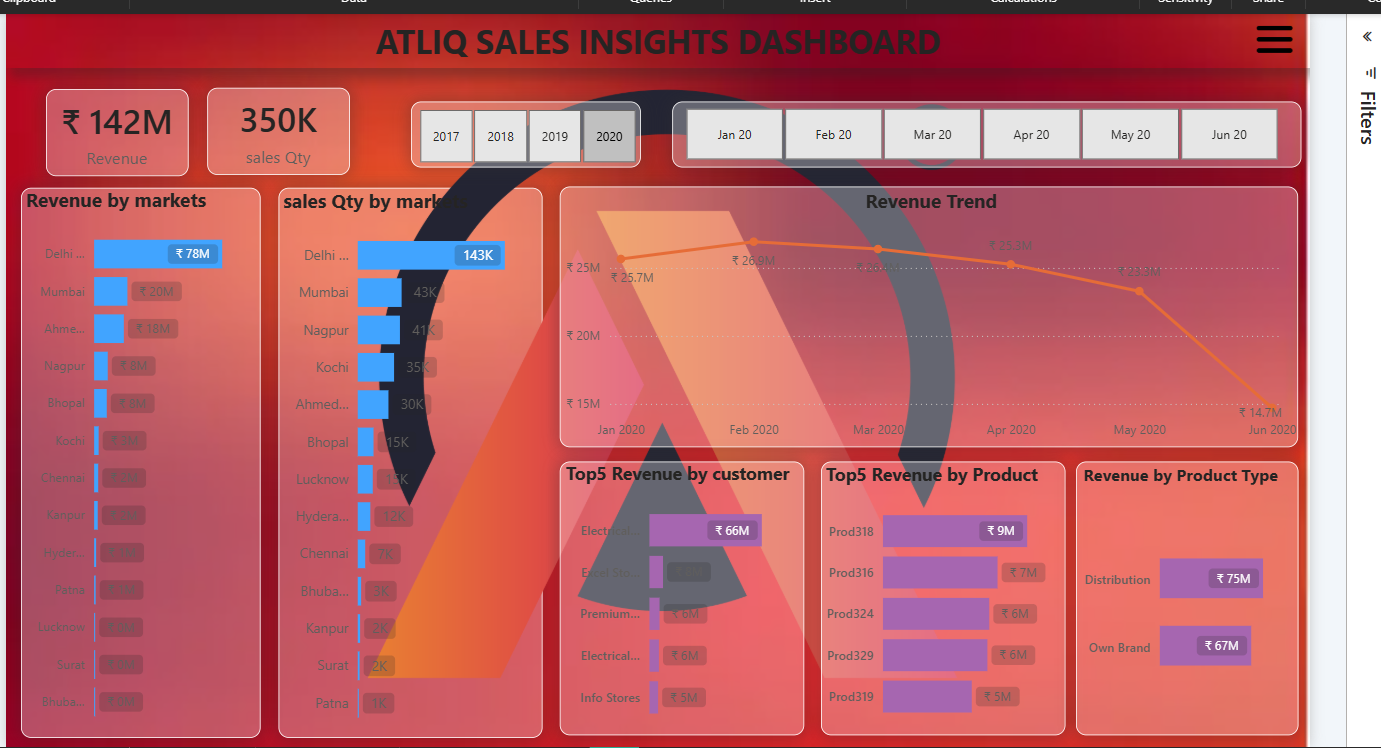

What the dashboard file says about the page in this screenshot:
{"tool":"powerbi","page":{"name":"Key Insight","canvas":[1280,720],"ordinal":0},"visuals":[{"type":"textbox","box":[0,0,1280.5,53],"z":0},{"type":"image","box":[1222,2.9,46.8,45.4],"z":1000},{"type":"shape","box":[197.8,72.4,139.9,85.6],"z":6000},{"type":"shape","box":[39.8,73.6,139.9,85.6],"z":7000},{"type":"shape","box":[267.7,170.1,259.3,540.3],"z":8000},{"type":"shape","box":[14.5,170.1,235.2,540.3],"z":9000},{"type":"card","fields":{"Values":["Base Measures 2.Revenue"]},"box":[39.8,73.6,139.9,84.4],"z":10000},{"type":"card","fields":{"Values":["Base Measures 2.sales Qty"]},"box":[197.8,71.2,139.9,86.8],"z":11000},{"type":"image","box":[292,55.2,723.9,608.6],"z":13000},{"type":"barChart","title":"Revenue by markets","fields":{"Category":["sales markets.markets_name"],"Y":["Base Measures 2.Revenue"]},"box":[14.5,168.8,236.4,540.3],"z":14000},{"type":"barChart","title":"sales Qty by markets","fields":{"Category":["sales markets.markets_name"],"Y":["Base Measures 2.sales Qty"]},"box":[267.7,170.1,259.3,540.3],"z":15000},{"type":"shape","box":[653.7,85.6,617.5,65.1],"z":16000},{"type":"shape","box":[398,85.6,225.5,65.1],"z":17000},{"type":"slicer","fields":{"Values":["sales date.year"]},"box":[379.9,86.8,261.7,65.1],"z":18000},{"type":"slicer","fields":{"Values":["sales date.cy_date"]},"box":[641.6,85.6,630.8,63.9],"z":19000},{"type":"shape","box":[543.9,168.8,724.8,255.7],"z":20000},{"type":"shape","box":[543.9,439,240,268.9],"z":21000},{"type":"shape","box":[799.6,439,240,268.9],"z":22000},{"type":"shape","box":[1050.5,439,218.3,268.9],"z":23000},{"type":"lineChart","title":"Revenue Trend","fields":{"Y":["Base Measures 2.Revenue"],"Category":["sales date.cy_date"]},"box":[545.1,170.1,727.2,255.7],"z":24000},{"type":"barChart","title":"Top5 Revenue by customer","fields":{"Y":["Base Measures 2.Revenue"],"Category":["sales customers.custmer_name"]},"box":[545.1,439,240,270.2],"z":25000},{"type":"barChart","title":"Top5 Revenue by Product","fields":{"Y":["Base Measures 2.Revenue"],"Category":["sales products.product_code"]},"box":[799.6,440.2,240,267.7],"z":26000},{"type":"barChart","title":"Revenue by Product Type","fields":{"Y":["Base Measures 2.Revenue"],"Category":["sales products.product_type"]},"box":[1052.9,440.2,219.5,267.7],"z":27000}]}

Visuals, with their boxes on the page's 1280x720 design canvas (x1, y1, x2, y2). These are canvas units, not pixel positions in the 1381x748 screenshot, which may show the page scaled, cropped or inside an application window:
textbox: (x1=0, y1=0, x2=1280, y2=53)
image: (x1=1222, y1=3, x2=1269, y2=48)
shape: (x1=198, y1=72, x2=338, y2=158)
shape: (x1=40, y1=74, x2=180, y2=159)
shape: (x1=268, y1=170, x2=527, y2=710)
shape: (x1=14, y1=170, x2=250, y2=710)
card - Base Measures 2.Revenue: (x1=40, y1=74, x2=180, y2=158)
card - Base Measures 2.sales Qty: (x1=198, y1=71, x2=338, y2=158)
image: (x1=292, y1=55, x2=1016, y2=664)
"Revenue by markets" barChart: (x1=14, y1=169, x2=251, y2=709)
"sales Qty by markets" barChart: (x1=268, y1=170, x2=527, y2=710)
shape: (x1=654, y1=86, x2=1271, y2=151)
shape: (x1=398, y1=86, x2=624, y2=151)
slicer - sales date.year: (x1=380, y1=87, x2=642, y2=152)
slicer - sales date.cy_date: (x1=642, y1=86, x2=1272, y2=150)
shape: (x1=544, y1=169, x2=1269, y2=424)
shape: (x1=544, y1=439, x2=784, y2=708)
shape: (x1=800, y1=439, x2=1040, y2=708)
shape: (x1=1050, y1=439, x2=1269, y2=708)
"Revenue Trend" lineChart: (x1=545, y1=170, x2=1272, y2=426)
"Top5 Revenue by customer" barChart: (x1=545, y1=439, x2=785, y2=709)
"Top5 Revenue by Product" barChart: (x1=800, y1=440, x2=1040, y2=708)
"Revenue by Product Type" barChart: (x1=1053, y1=440, x2=1272, y2=708)
